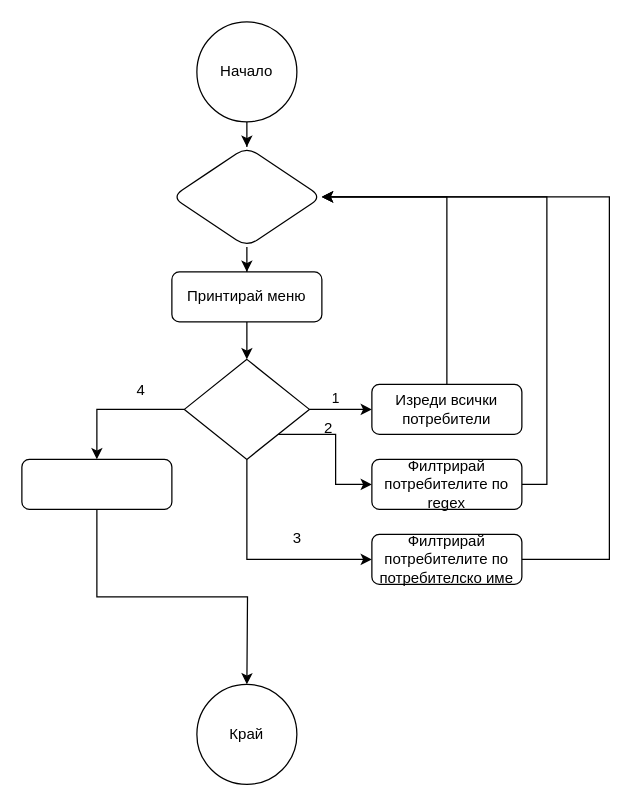
Image size: 641x806. Some labels were removed from this diagram. The shapes that lost their labels are listed below. From the top down, each one's centre as x and y in pixels, then its label:
pixel 246 196: Винаги вярно
pixel 246 408: Избор на потребителя
pixel 96 483: Команда изход
